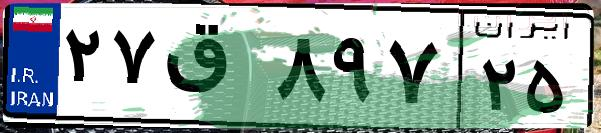2: (57, 26, 110, 100), (475, 38, 525, 113)
5: (525, 38, 570, 115)
7: (385, 28, 445, 110), (110, 28, 158, 98)
8: (270, 28, 330, 110)
9: (330, 28, 385, 110)
ق: (158, 20, 270, 120)
